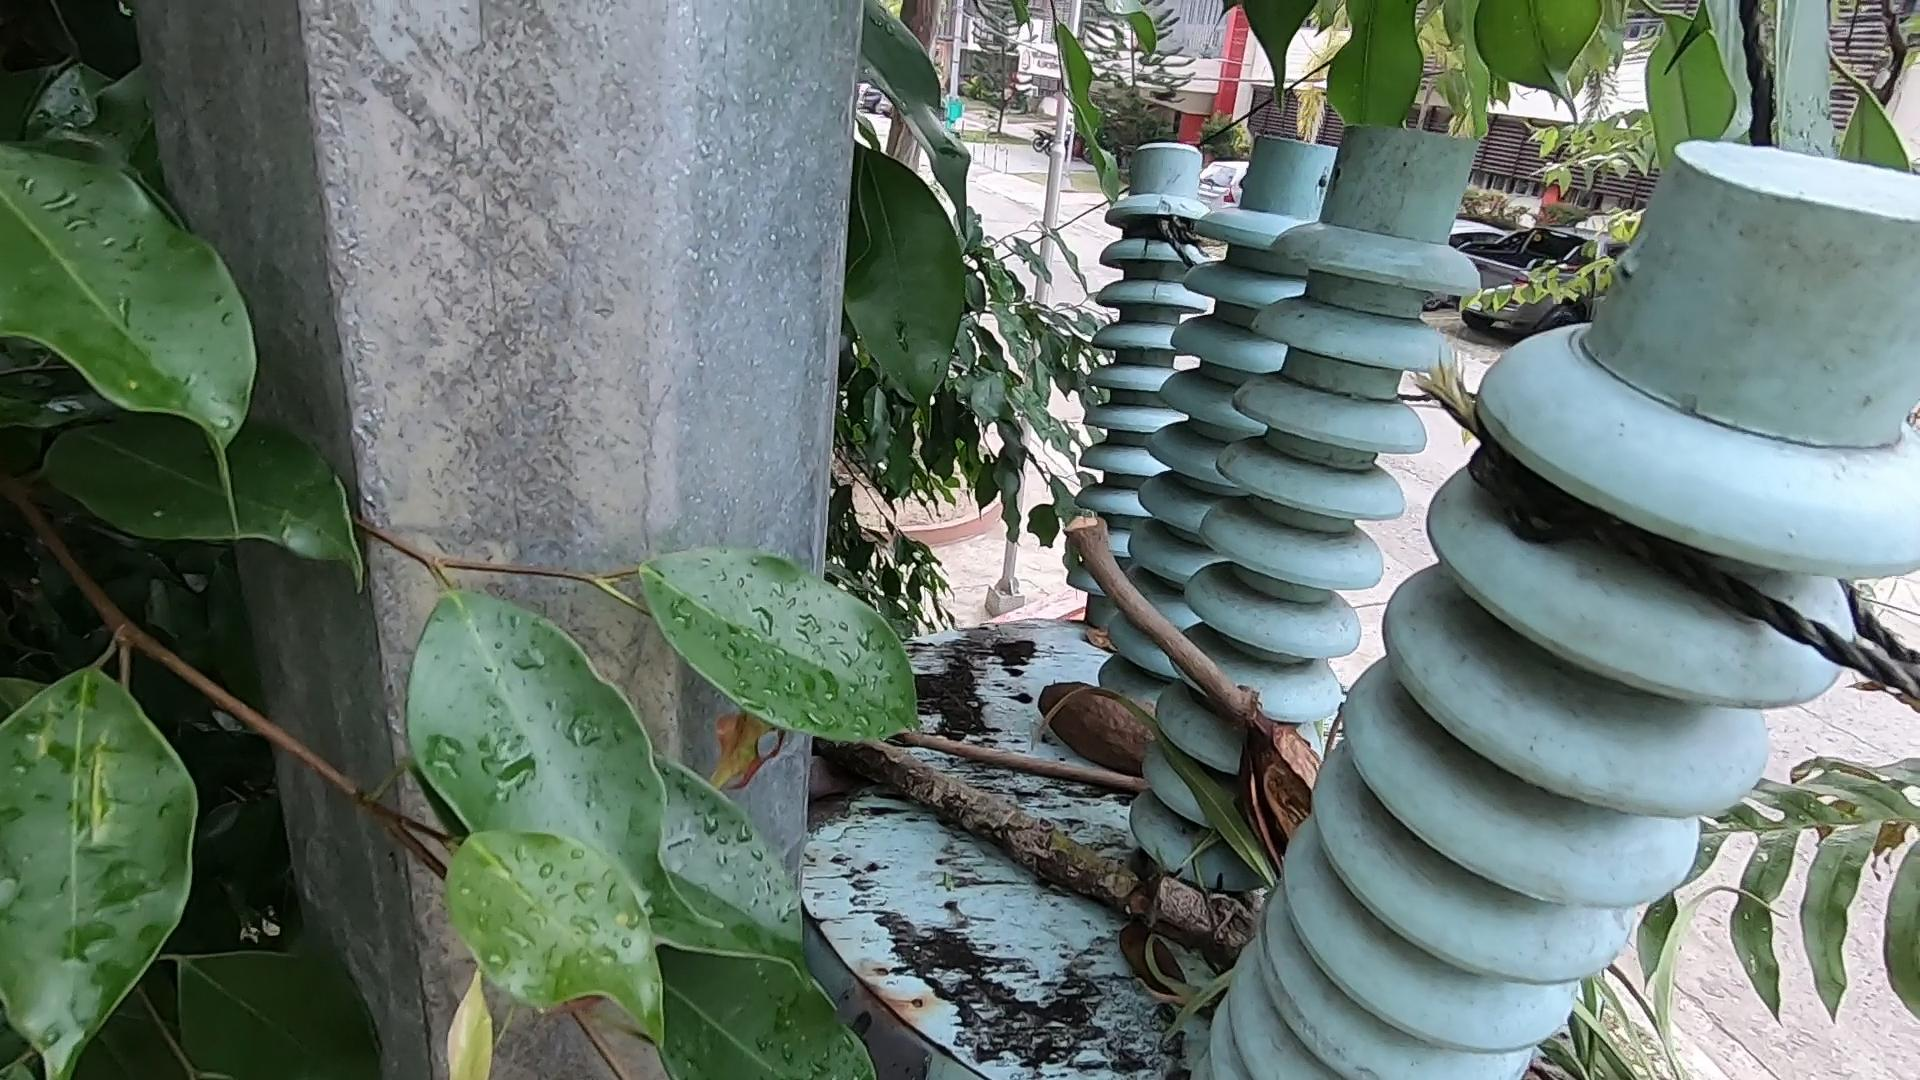branch with leaves: (866, 744, 1240, 963)
leaf: (1135, 915, 1193, 1004), (1089, 630, 1122, 661)
mahogany fruit: (1204, 686, 1320, 848), (1029, 661, 1179, 771)
tree branch: (1083, 517, 1276, 741), (926, 738, 1153, 798)
